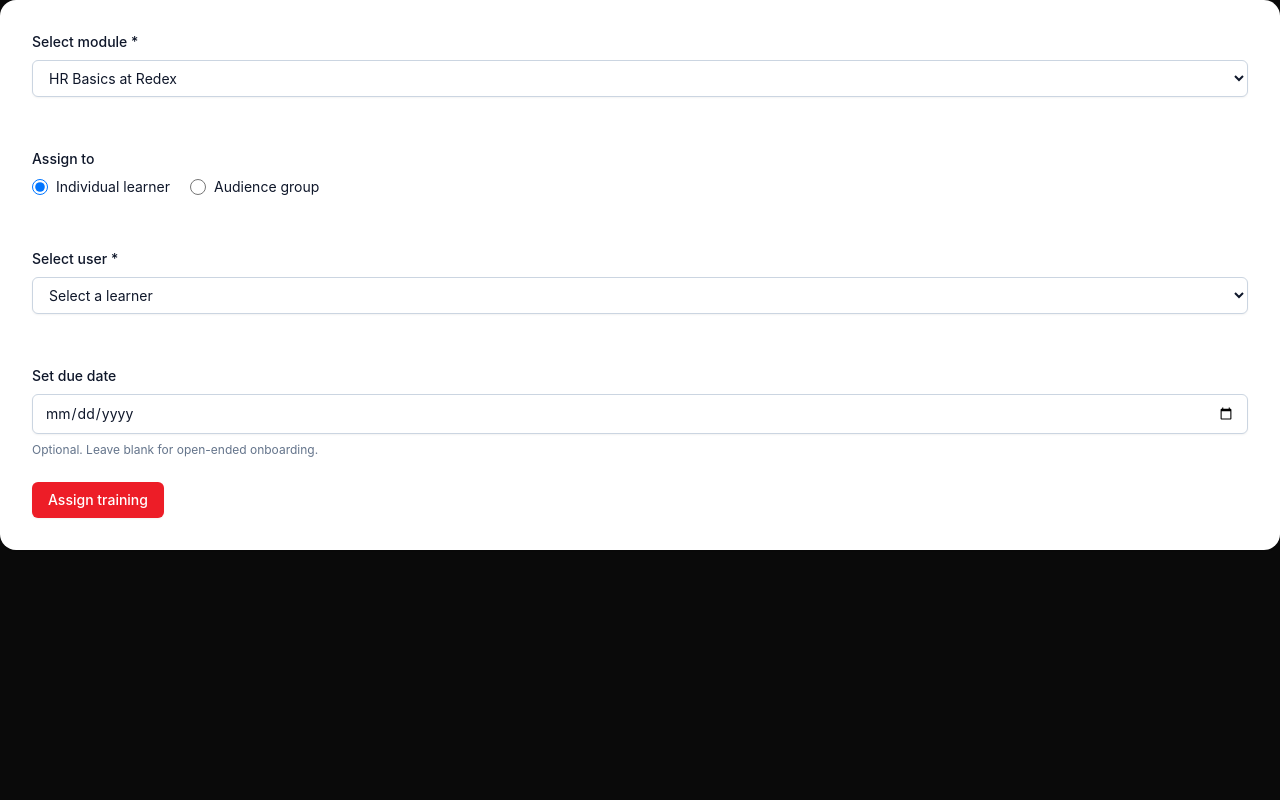
Test case: AssignmentForm › validates user-mode submission requires assigneeUserId
Click the button "Assign training": (98, 500) [32,482,164,518]
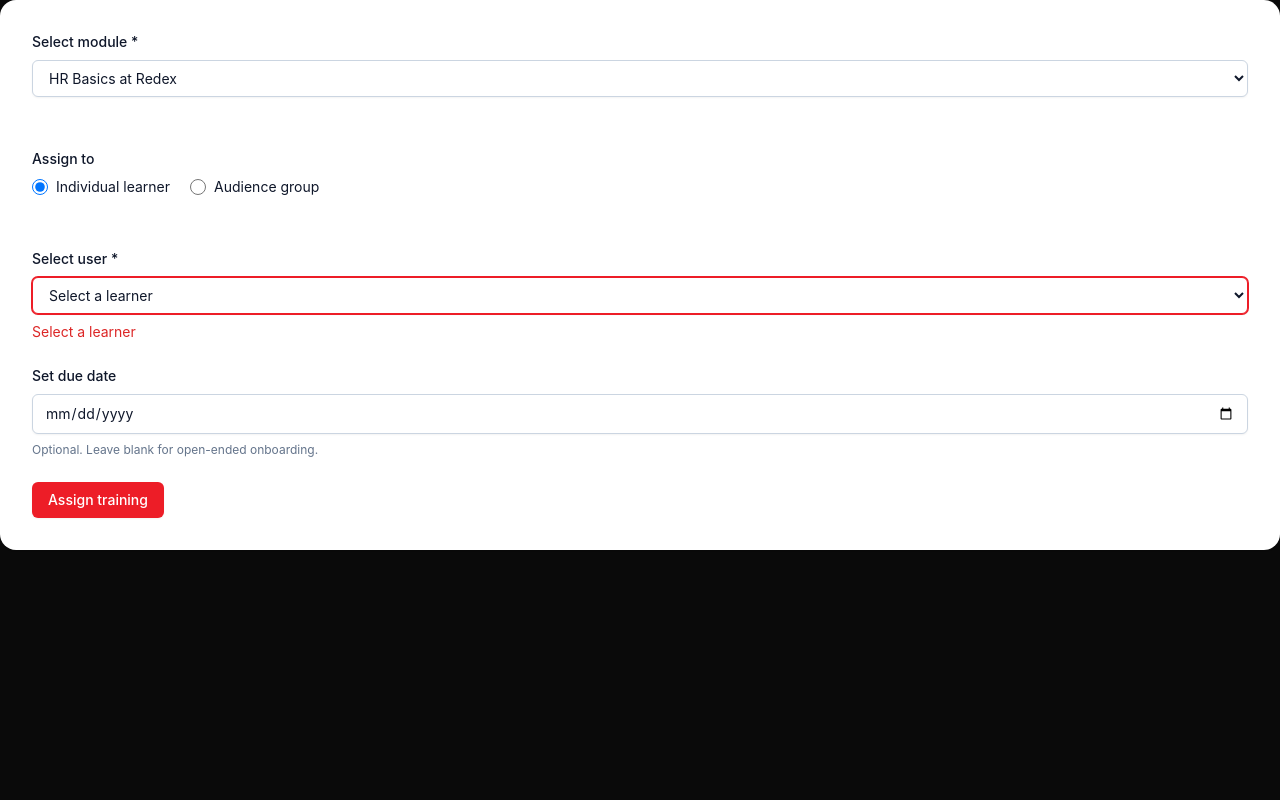
Check: the text "Select a learner" is shown, box [32,323,136,340]
